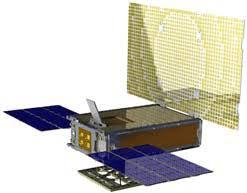body: (64, 102, 207, 165)
solar: (87, 141, 216, 189), (0, 103, 85, 135)
